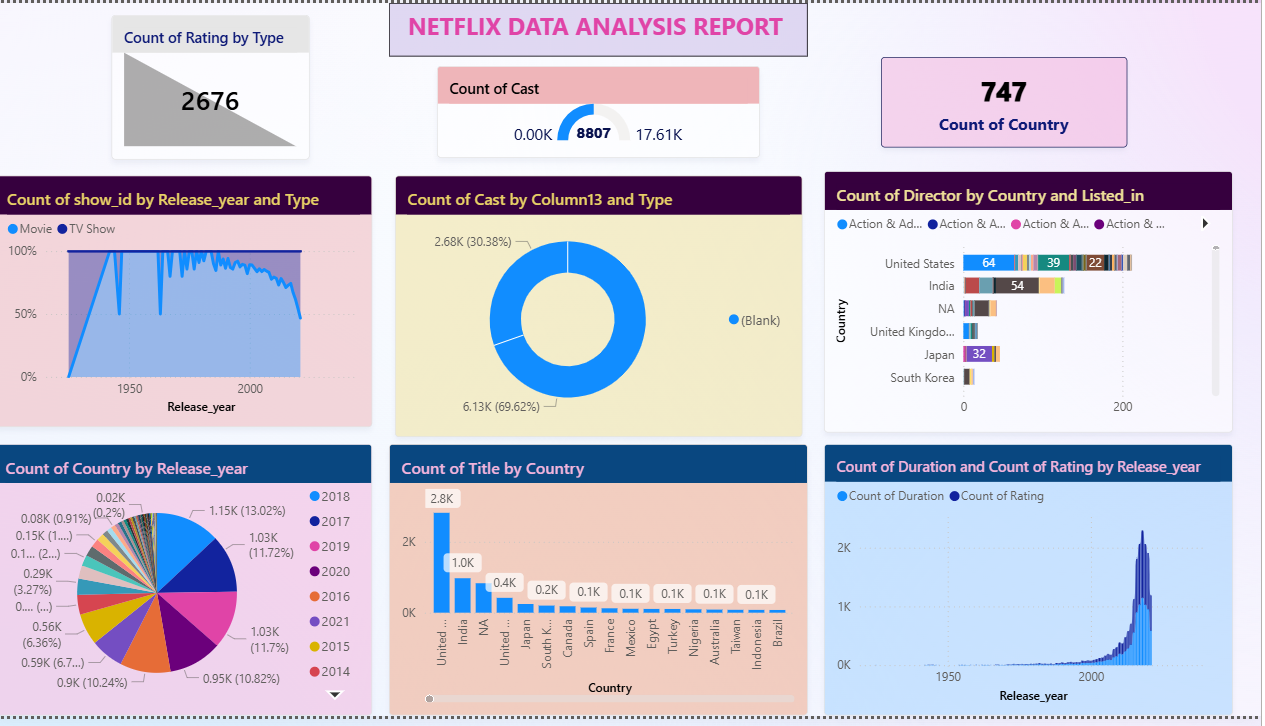

This screenshot's page, from the dashboard's own definition file:
{"tool":"powerbi","page":{"name":"Page 1","canvas":[1280,720],"ordinal":0},"visuals":[{"type":"pieChart","fields":{"Category":["netflix_titles.Release_year"],"Y":["CountNonNull(netflix_titles.Country)"]},"box":[0,445.7,382.9,274.3],"z":0},{"type":"lineStackedColumnComboChart","fields":{"Category":["netflix_titles.Country"],"Y":["CountNonNull(netflix_titles.Title)"]},"box":[400,445.7,422.9,274.3],"z":1000},{"type":"ribbonChart","fields":{"Category":["netflix_titles.Release_year"],"Y":["CountNonNull(netflix_titles.Duration)","CountNonNull(netflix_titles.Rating)"]},"box":[838.6,445.7,412.9,274.3],"z":2000},{"type":"hundredPercentStackedAreaChart","fields":{"Category":["netflix_titles.Release_year"],"Y":["CountNonNull(netflix_titles.show_id)"],"Series":["netflix_titles.Type"]},"box":[1.4,174.3,381.4,254.3],"z":3000},{"type":"donutChart","fields":{"Category":["netflix_titles.Column13"],"Y":["CountNonNull(netflix_titles.Cast)"],"Series":["netflix_titles.Type"]},"box":[405.7,174.3,411.4,264.3],"z":3001},{"type":"barChart","fields":{"Y":["CountNonNull(netflix_titles.Director)"],"Category":["netflix_titles.Country"],"Series":["netflix_titles.Listed_in"]},"box":[838.6,170,412.9,264.3],"z":3002},{"type":"textbox","box":[400,0,422.9,54.3],"z":3003},{"type":"card","fields":{"Values":["Count(netflix_titles.Country)"]},"box":[897.1,54.3,248.6,91.4],"z":3004},{"type":"gauge","fields":{"Y":["CountNonNull(netflix_titles.Cast)"]},"box":[448.6,64.3,325.7,92.9],"z":3005},{"type":"kpi","fields":{"Indicator":["CountNonNull(netflix_titles.Rating)"],"TrendLine":["netflix_titles.Type"]},"box":[120,12.9,200,145.7],"z":3007}]}

Visuals, with their boxes in screenshot pixels (x1, y1, x2, y2), scaled from the page's 1280x720 canvas onto the 1265x726 screenshot:
pieChart - netflix_titles.Release_year x CountNonNull(netflix_titles.Country): {"left": 0, "top": 449, "right": 378, "bottom": 725}
lineStackedColumnComboChart - netflix_titles.Country x CountNonNull(netflix_titles.Title): {"left": 395, "top": 449, "right": 813, "bottom": 725}
ribbonChart - netflix_titles.Release_year x CountNonNull(netflix_titles.Duration): {"left": 829, "top": 449, "right": 1237, "bottom": 725}
hundredPercentStackedAreaChart - netflix_titles.Release_year x CountNonNull(netflix_titles.show_id): {"left": 1, "top": 176, "right": 378, "bottom": 432}
donutChart - netflix_titles.Column13 x CountNonNull(netflix_titles.Cast): {"left": 401, "top": 176, "right": 808, "bottom": 442}
barChart - CountNonNull(netflix_titles.Director) x netflix_titles.Country: {"left": 829, "top": 171, "right": 1237, "bottom": 438}
textbox: {"left": 395, "top": 0, "right": 813, "bottom": 55}
card - Count(netflix_titles.Country): {"left": 887, "top": 55, "right": 1132, "bottom": 147}
gauge - CountNonNull(netflix_titles.Cast): {"left": 443, "top": 65, "right": 765, "bottom": 159}
kpi - CountNonNull(netflix_titles.Rating) x netflix_titles.Type: {"left": 119, "top": 13, "right": 316, "bottom": 160}
